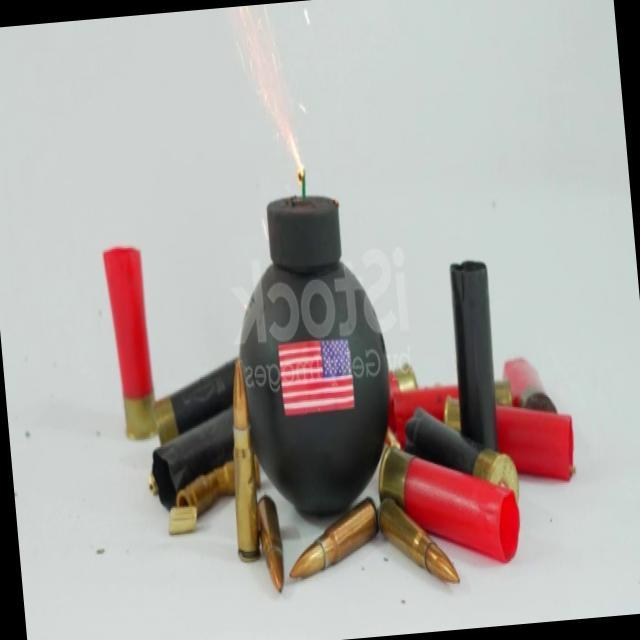grenade: (225, 188, 404, 530)
